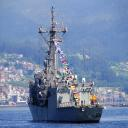Fragata: (26, 4, 105, 125)
